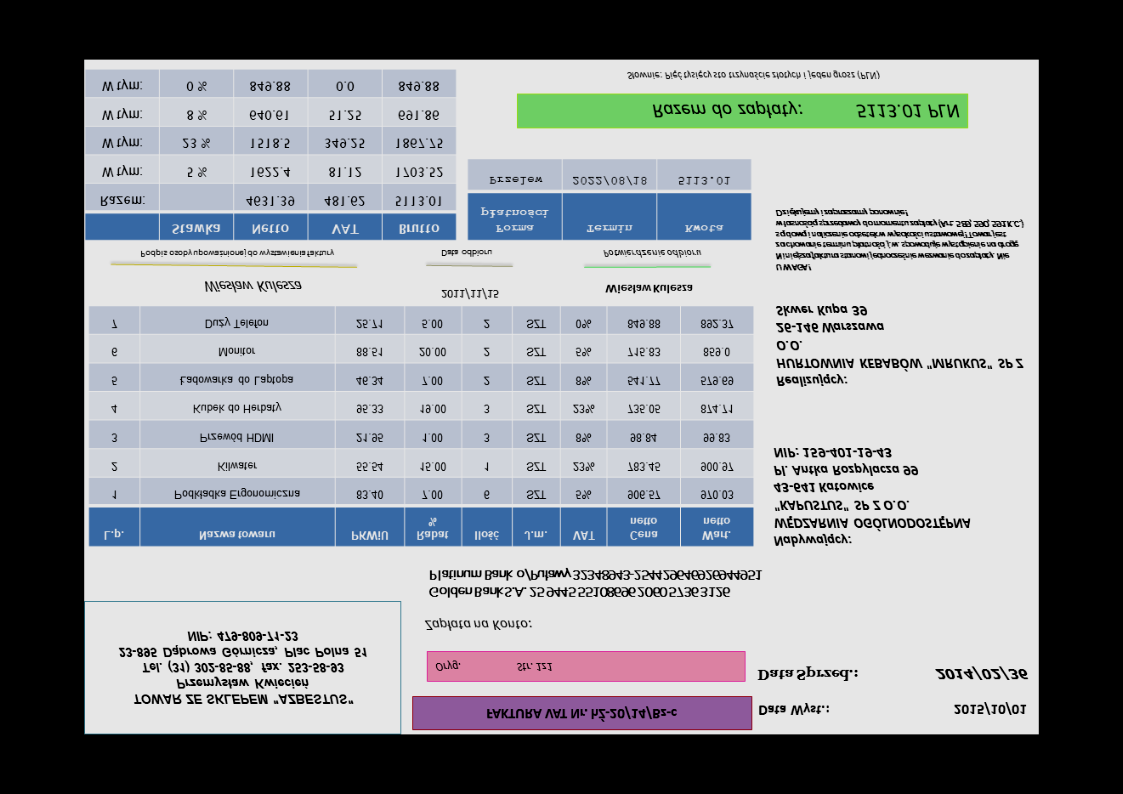Table: (88, 307, 753, 549), (85, 69, 457, 241), (466, 158, 752, 241)
TextBox: (774, 303, 1025, 390), (772, 444, 975, 548), (116, 627, 371, 706), (773, 207, 1027, 274), (428, 567, 765, 600), (649, 101, 961, 122), (485, 704, 679, 724), (626, 68, 882, 82), (139, 247, 336, 261), (422, 615, 534, 634), (757, 664, 861, 683), (202, 277, 304, 296), (934, 663, 1029, 683), (433, 660, 554, 674), (603, 281, 695, 298), (601, 247, 703, 260), (952, 701, 1028, 717), (757, 701, 831, 717), (439, 286, 501, 302), (439, 247, 492, 259)
